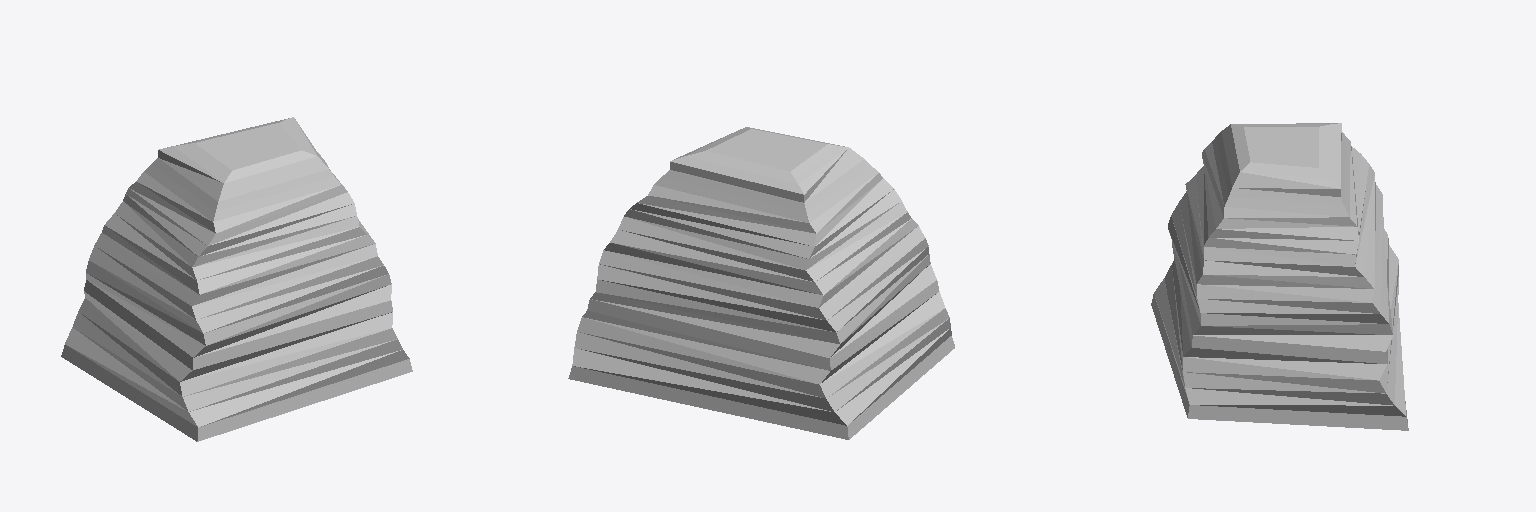
File: sedRock.obj
3 renders of one model, left to right at view 1: azimuth 30°, elevation 25°; view 2: azimuth 150°, elevation 25°; view 3: azimuth 270°, elevation 25°, orthographic.
Visible parts, largest first — view 1: group4; view 2: group4; view 3: group4.
Part boxes in pixels (x1,y1,x2,y2): group4: (61,117,412,441); group4: (568,127,954,439); group4: (1151,123,1408,430).
Size of the model in its own units: 1.25 by 0.9409 by 1.01.